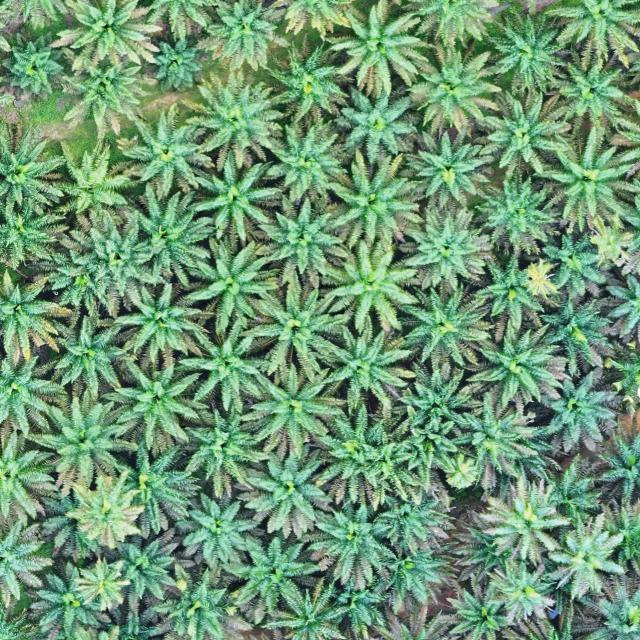Tree: (19, 381, 144, 496), (324, 0, 439, 101), (532, 127, 638, 236), (97, 349, 201, 459), (312, 231, 419, 336), (316, 149, 424, 252), (314, 316, 419, 421), (245, 279, 350, 384), (241, 357, 347, 461), (463, 315, 578, 410), (453, 387, 557, 492), (178, 233, 284, 335), (113, 100, 222, 199), (121, 181, 218, 291), (316, 401, 415, 505), (395, 274, 494, 374), (404, 40, 504, 137), (304, 495, 402, 592), (398, 196, 496, 292), (254, 192, 350, 290), (475, 474, 575, 568), (240, 442, 334, 542), (176, 314, 270, 414), (177, 72, 278, 165), (66, 205, 168, 297), (217, 532, 321, 619), (179, 403, 272, 499), (58, 50, 160, 137), (110, 278, 213, 364), (469, 246, 563, 340), (474, 162, 566, 258), (49, 0, 168, 74), (192, 154, 286, 247), (263, 34, 358, 126), (479, 86, 571, 181), (148, 559, 253, 640), (400, 124, 496, 211), (115, 441, 202, 537), (260, 115, 352, 204), (0, 266, 78, 370), (362, 536, 464, 615), (48, 312, 140, 399), (0, 115, 69, 229), (549, 49, 637, 138), (172, 484, 262, 570), (544, 511, 628, 602), (19, 559, 113, 640), (482, 7, 568, 94), (533, 294, 621, 378), (394, 356, 486, 436), (192, 0, 292, 73), (536, 366, 620, 452), (446, 506, 537, 584), (542, 0, 640, 72), (0, 338, 69, 440), (372, 477, 457, 556), (64, 467, 146, 548), (336, 84, 421, 162), (0, 419, 60, 528), (258, 572, 354, 640), (54, 136, 134, 216), (34, 244, 116, 318), (566, 565, 640, 640), (542, 226, 612, 304), (0, 516, 58, 608), (486, 554, 560, 624), (443, 572, 518, 640), (584, 419, 640, 509), (0, 203, 71, 273), (536, 454, 606, 523), (498, 598, 610, 640), (0, 29, 66, 100), (320, 571, 389, 638), (361, 601, 472, 640), (113, 540, 179, 602), (603, 85, 640, 195), (401, 413, 460, 477), (595, 495, 640, 576), (599, 334, 640, 420), (97, 597, 179, 640), (611, 179, 640, 284), (600, 273, 640, 348), (152, 34, 202, 93), (57, 624, 144, 640)
